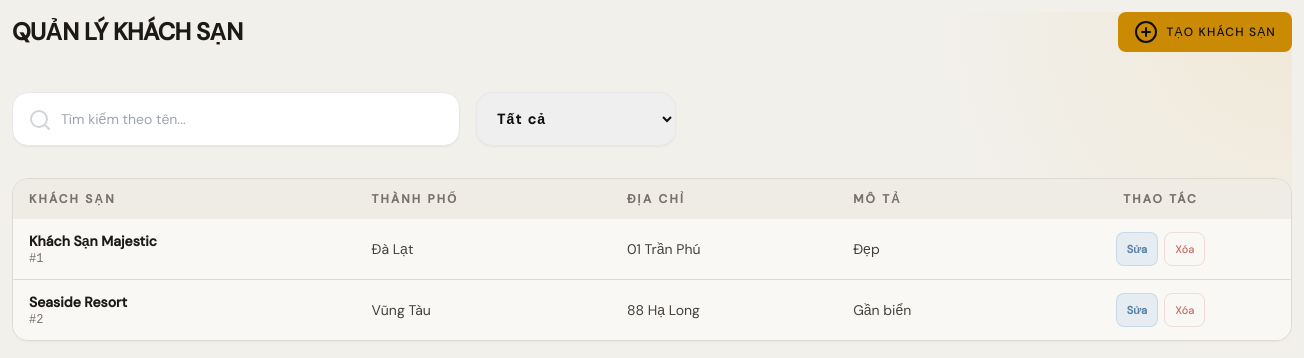
Test case: Kiểm thử Component HotelManagement › TC03: Kiểm tra lọc theo thành phố
The width and height of the screenshot is (1304, 358).
Expected: the text "Khách Sạn Majestic" is shown, [29, 232, 157, 250]
Select "Đà Lạt" in the dropdown at (576, 119), box [476, 92, 676, 146]
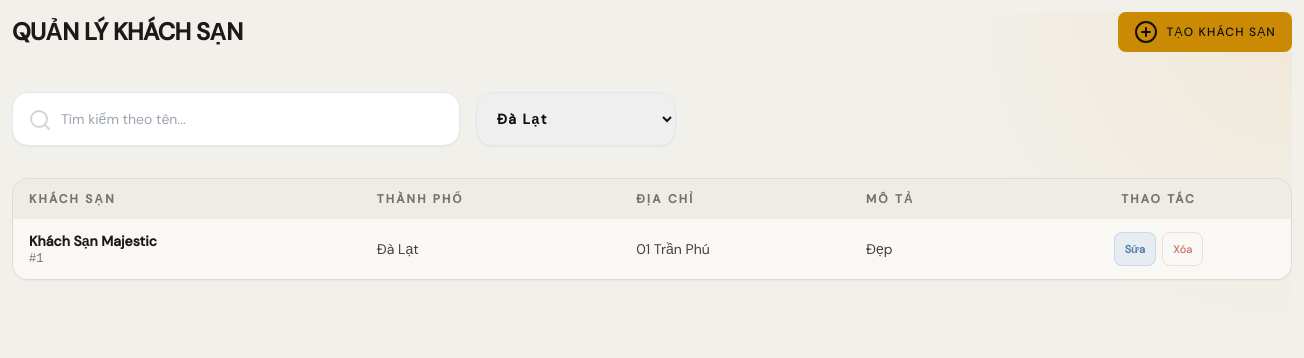
Expected: the text "Khách Sạn Majestic" is shown, [29, 232, 157, 250]
Result: the text "Seaside Resort" is gone
